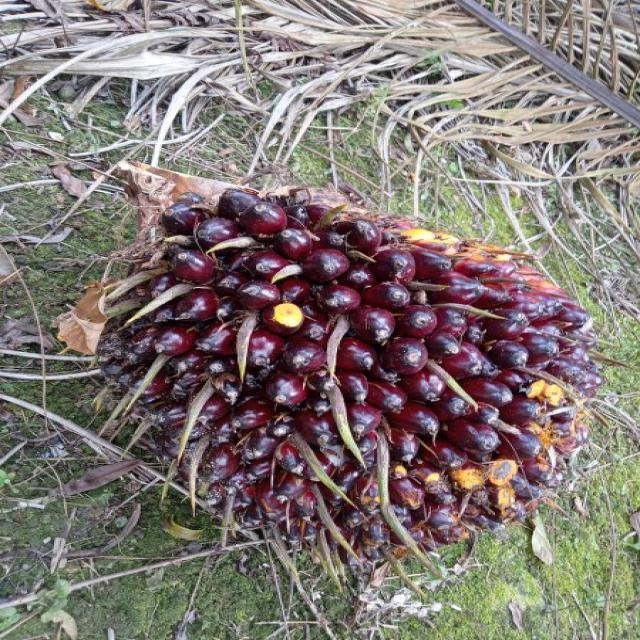fraksi 1: (101, 173, 596, 565)
